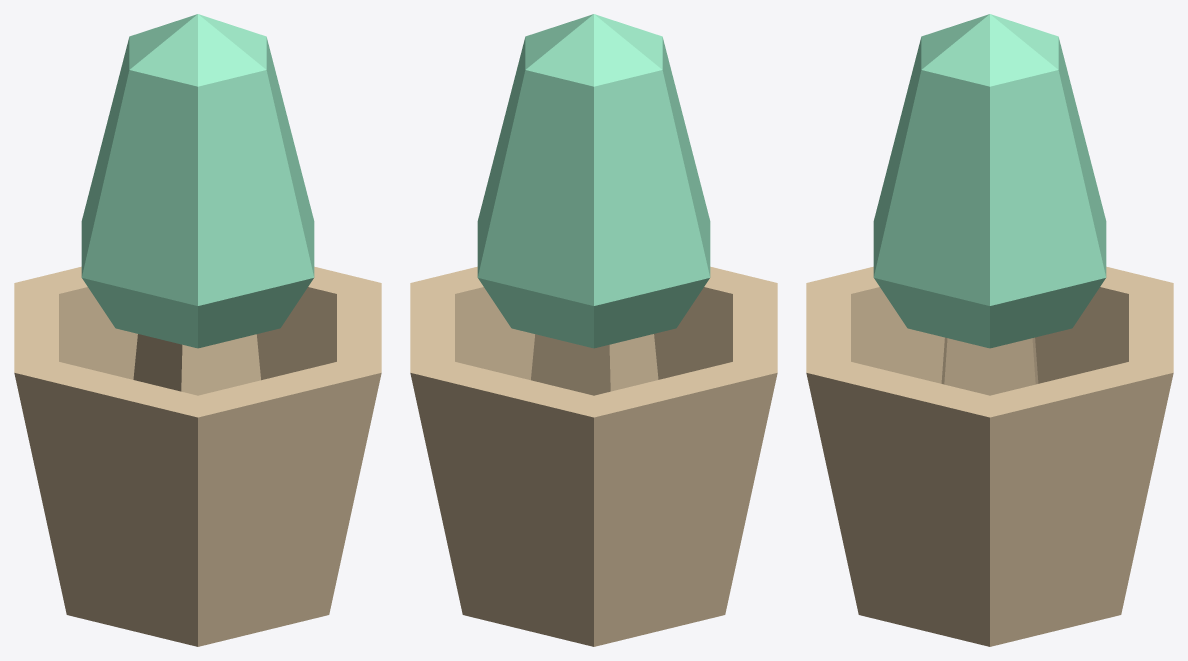
The model's file is plantSmall3.glb.
3 views of the same model, side by side, from view 1: azimuth 30°, elevation 25°; view 2: azimuth 150°, elevation 25°; view 3: azimuth 270°, elevation 25° (orthographic).
Parts seen in each view (by area): view 1: plantSmall3; view 2: plantSmall3; view 3: plantSmall3.
Boxes of the visible parts, <box> form: plantSmall3: <box>14,14,381,646</box>; plantSmall3: <box>410,14,777,646</box>; plantSmall3: <box>806,14,1173,646</box>.
Size of the model in its own units: 0.98 by 1.45 by 0.8487.
